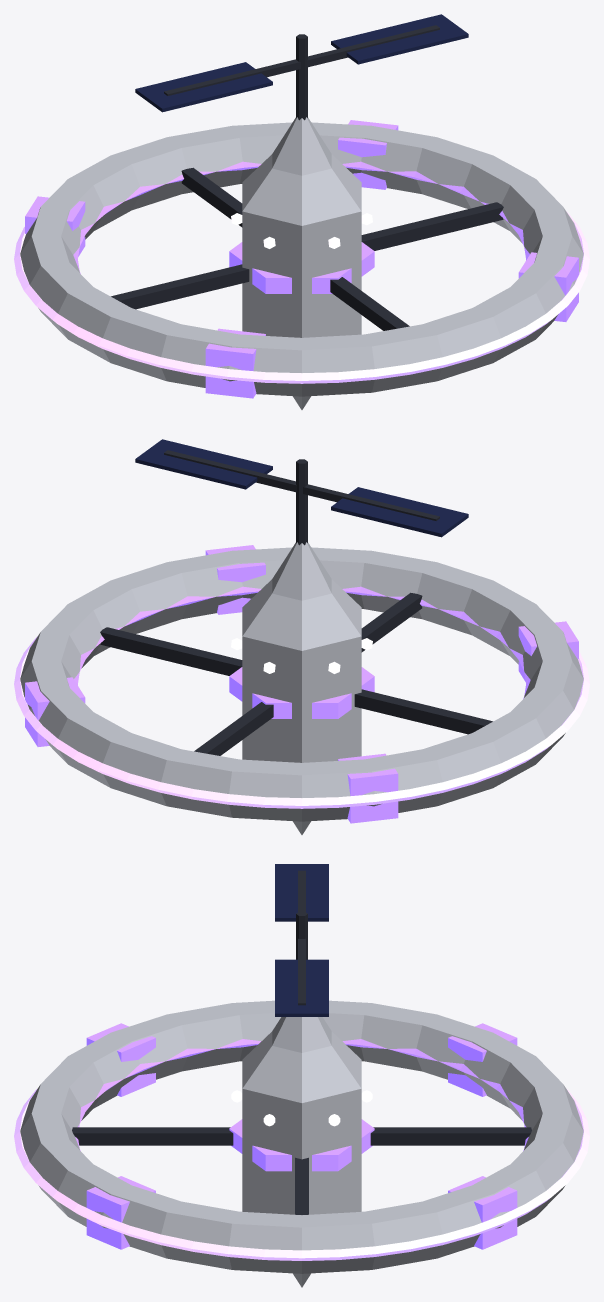
File: station-hub.glb
3 renders of one model, top to bottom at view 1: azimuth 30°, elevation 25°; view 2: azimuth 150°, elevation 25°; view 3: azimuth 270°, elevation 25°, orthographic.
Parts seen in each view (by area): view 1: Ring, HubCore; view 2: Ring, HubCore; view 3: Ring, HubCore.
Part boxes in pixels (<box>): Ring: <box>14,120,589,398</box>; HubCore: <box>135,14,468,409</box>; Ring: <box>14,545,589,823</box>; HubCore: <box>135,439,468,834</box>; Ring: <box>14,1000,589,1273</box>; HubCore: <box>229,864,374,1287</box>.
Bounding box in the file's own units: 5.86 × 4.2 × 5.86.
